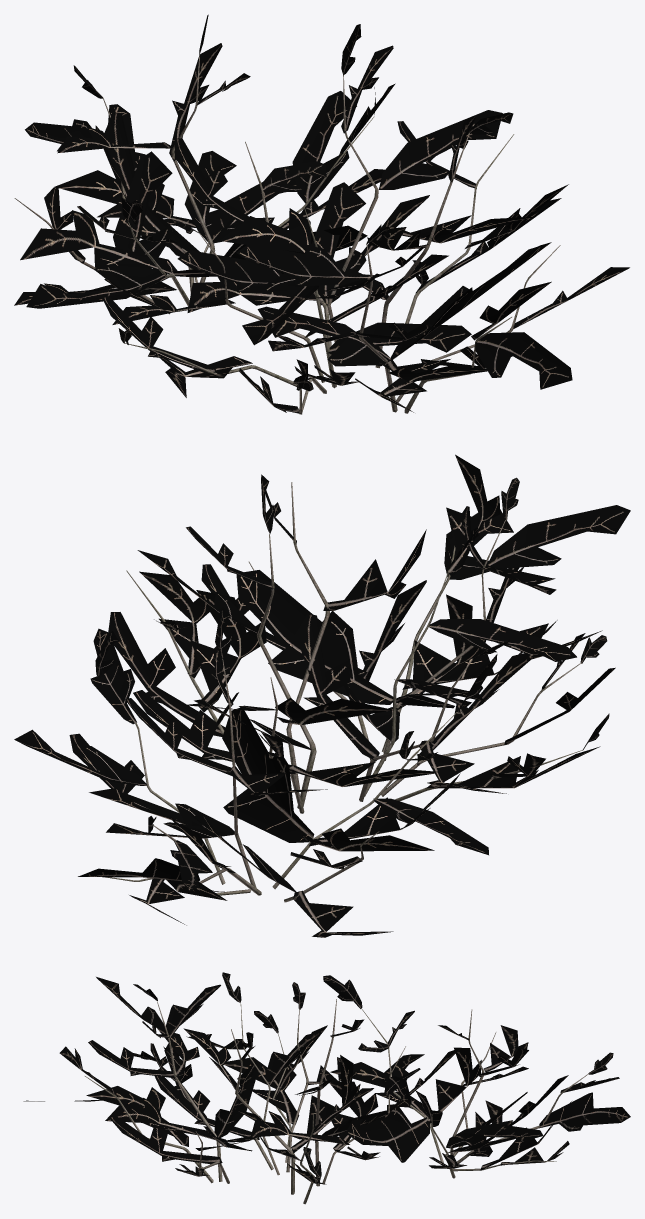
Rendered from SM_Bush_02.fbx.
The picture shows the model from 3 angles, top to bottom: view 1: azimuth 30°, elevation 25°; view 2: azimuth 150°, elevation 25°; view 3: azimuth 270°, elevation 25°; orthographic projection. The views are drawn at different scales.
Parts seen in each view (by area): view 1: SM_Bush_02; view 2: SM_Bush_02; view 3: SM_Bush_02.
Boxes of the visible parts, left/top/right/bottom form: SM_Bush_02: left=14, top=14, right=629, bottom=414; SM_Bush_02: left=14, top=454, right=630, bottom=937; SM_Bush_02: left=23, top=972, right=630, bottom=1204.
Size of the model in its own units: 468 by 765 by 318.
2 materials, 2 textured.
